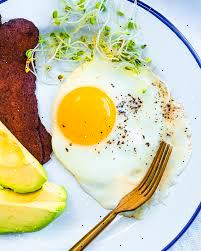eggs: (53, 62, 181, 201)
